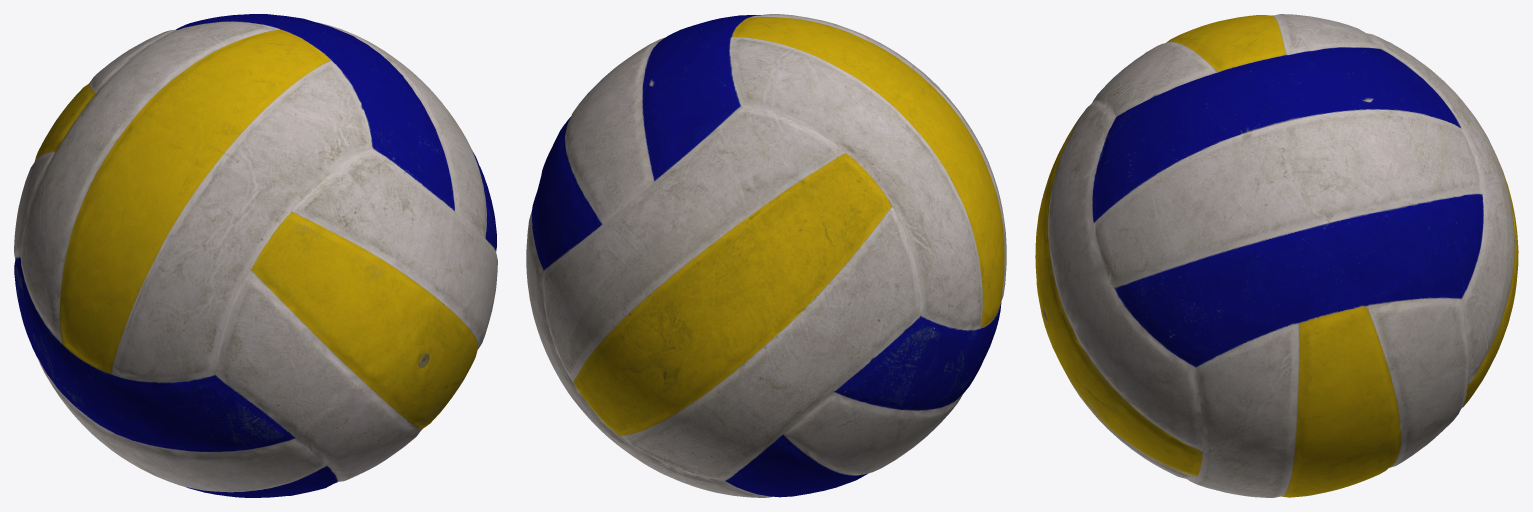
3 views of the same model, side by side, from view 1: azimuth 30°, elevation 25°; view 2: azimuth 150°, elevation 25°; view 3: azimuth 270°, elevation 25° (orthographic).
Parts seen in each view (by area): view 1: Volleyball; view 2: Volleyball; view 3: Volleyball.
Boxes of the visible parts, x1,y1,x2,y2 form: Volleyball: (14, 14, 497, 497); Volleyball: (526, 14, 1006, 497); Volleyball: (1035, 14, 1518, 497).
Size of the model in its own units: 0.2013 by 0.2021 by 0.2017.
Materials: 1 (1 with a texture image).
